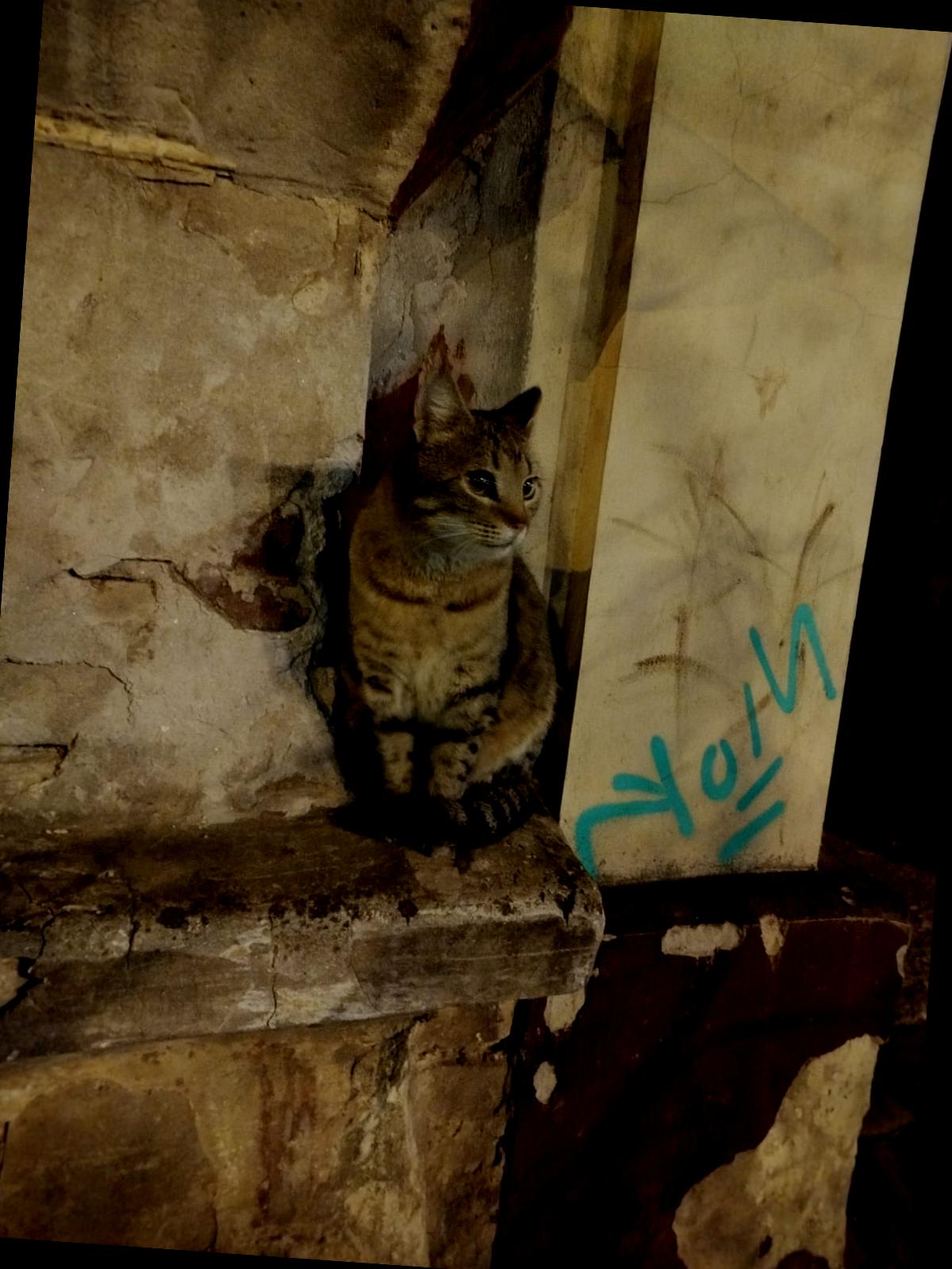macka: (324, 357, 584, 853)
